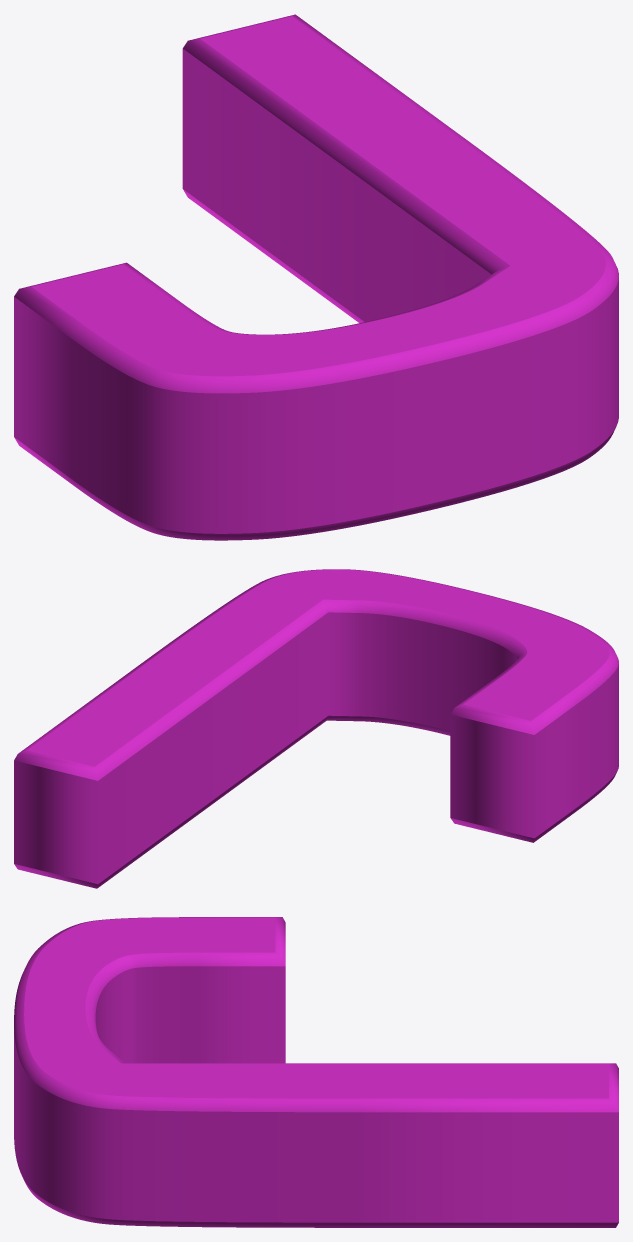
The model's file is Letter_r_CoolFont.fbx.
3 views of the same model, one above another, from view 1: azimuth 30°, elevation 25°; view 2: azimuth 150°, elevation 25°; view 3: azimuth 270°, elevation 25° (orthographic). The views are drawn at different scales.
Visible parts, largest first — view 1: Letter_r; view 2: Letter_r; view 3: Letter_r.
Part boxes in pixels (x1,y1,x2,y2): Letter_r: [14, 14, 618, 540]; Letter_r: [14, 569, 618, 888]; Letter_r: [14, 917, 618, 1227].
Bounding box in the file's own units: 0.4427 × 0.14 × 0.5961.
